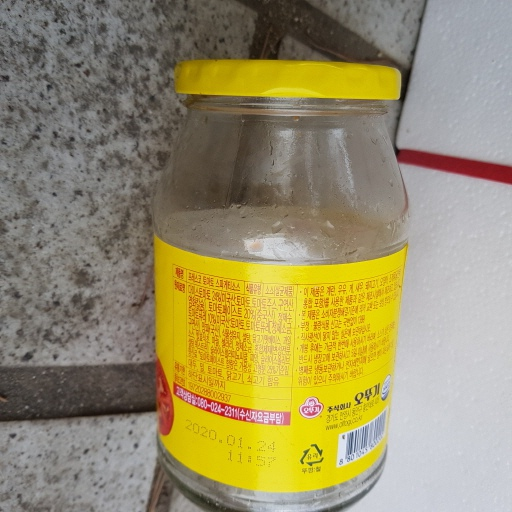Glass_5: (153, 53, 413, 512)
